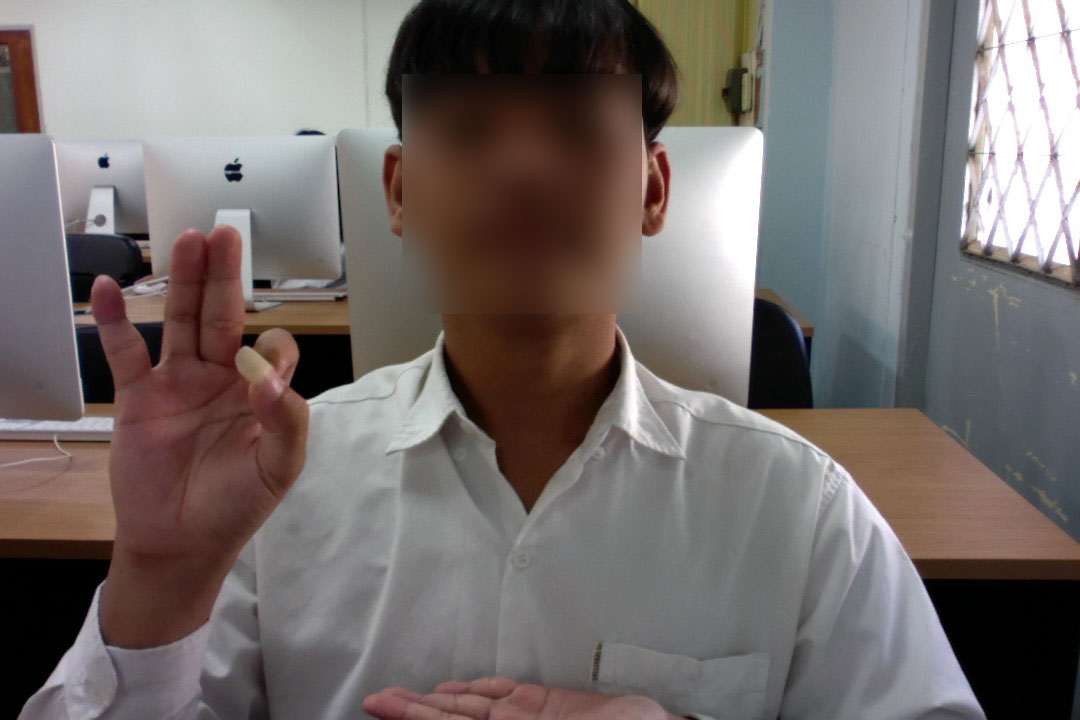for: (67, 211, 331, 597)
